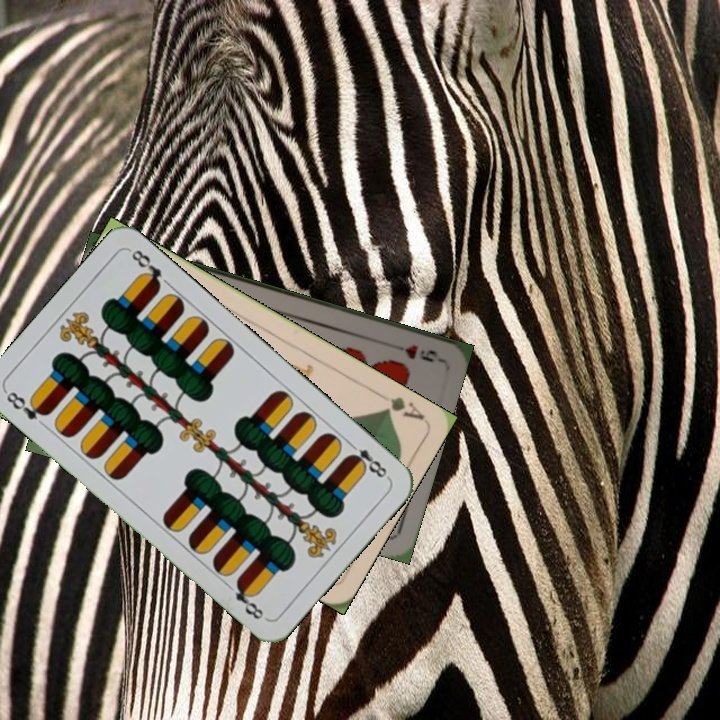E8: (344, 437, 392, 482), (2, 387, 51, 423)
GA: (372, 388, 427, 424)
H9: (385, 339, 443, 365)
